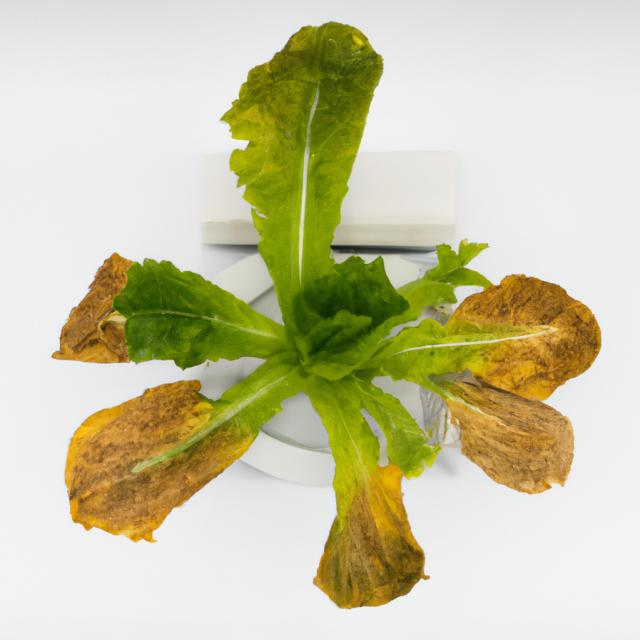-K: (46, 9, 609, 620)
